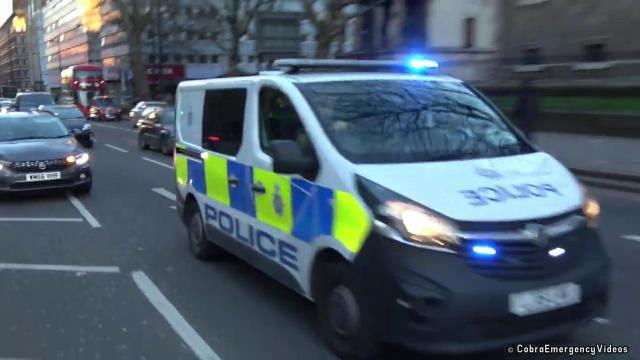police_car: (174, 59, 609, 342)
